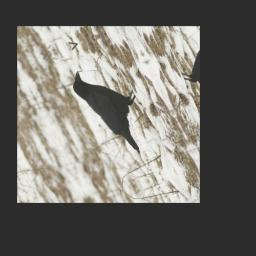Crow: (62, 55, 162, 164)
